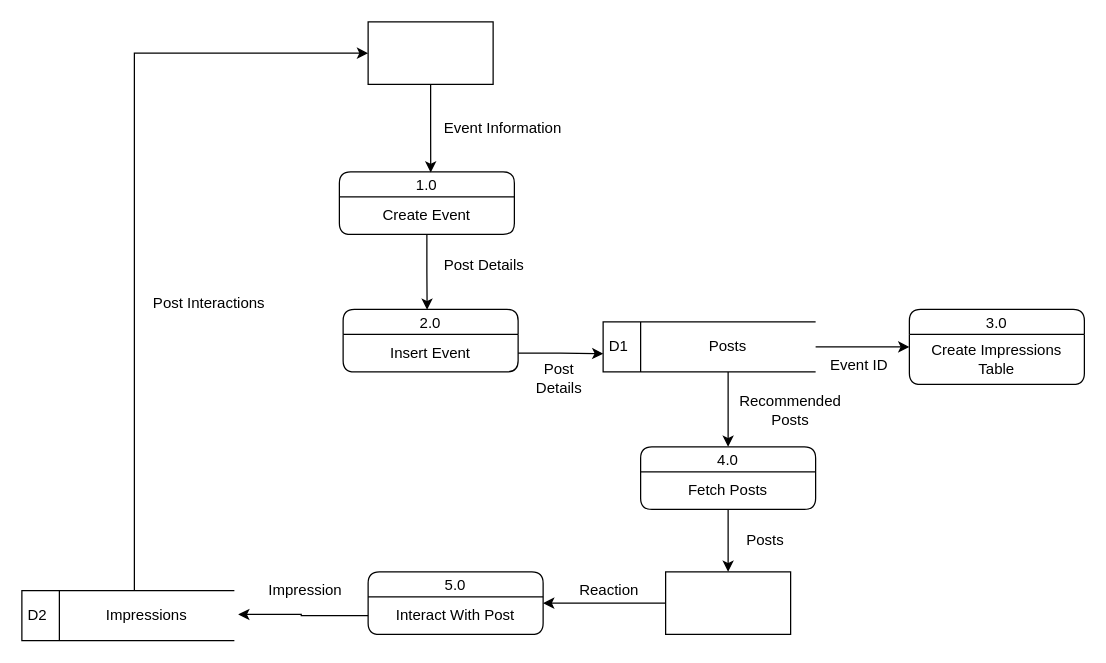
The diagram is 1106 pixels wide and 663 high, and some of its shapes have lost their labels. The shapes that lost their labels are listed below. From the top down, each one's centre as x and y in pixels, then its label:
At (x=430, y=52): "Team".
At (x=727, y=602): "User".
